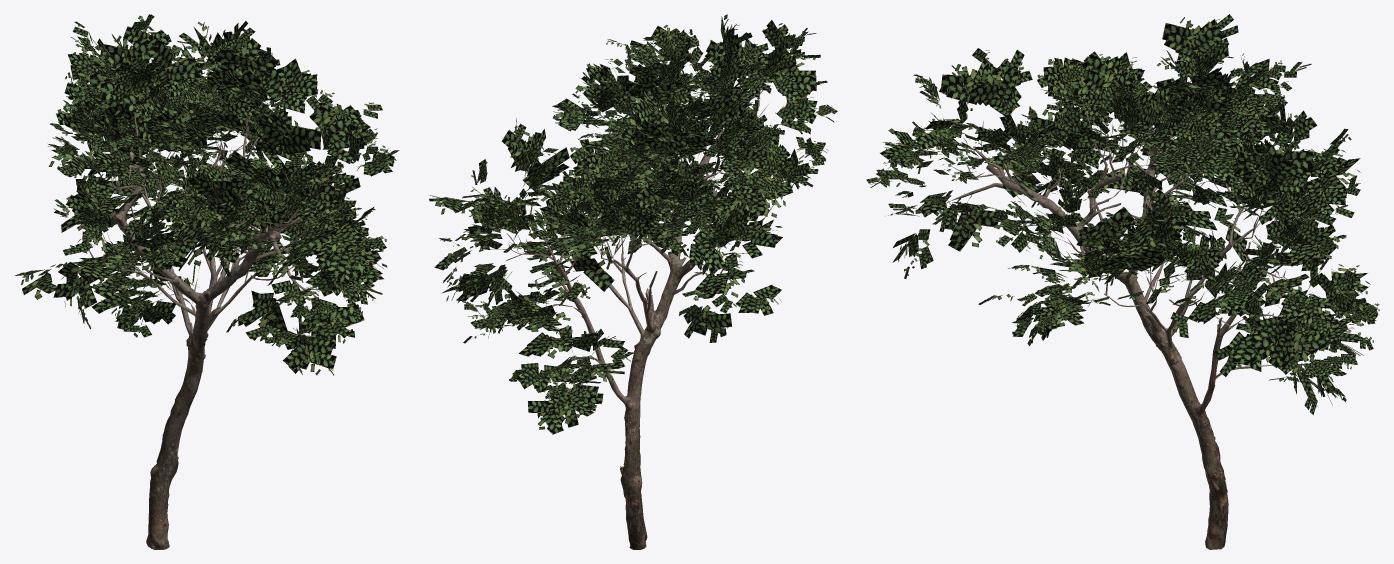
Rendered from tree_small_02_lod.gltf.
The picture shows the model from 3 angles, left to right: view 1: azimuth 30°, elevation 25°; view 2: azimuth 150°, elevation 25°; view 3: azimuth 270°, elevation 25°; orthographic projection. The views are drawn at different scales.
Visible parts, largest first — view 1: tree_small_02_LOD0; view 2: tree_small_02_LOD0; view 3: tree_small_02_LOD0.
Part boxes in pixels (x1,y1,x2,y2): tree_small_02_LOD0: (15, 14, 399, 549); tree_small_02_LOD0: (429, 14, 837, 549); tree_small_02_LOD0: (866, 14, 1379, 549).
Bounding box in the file's own units: 2.99 × 4.59 × 4.31.
3 materials, 3 textured.
